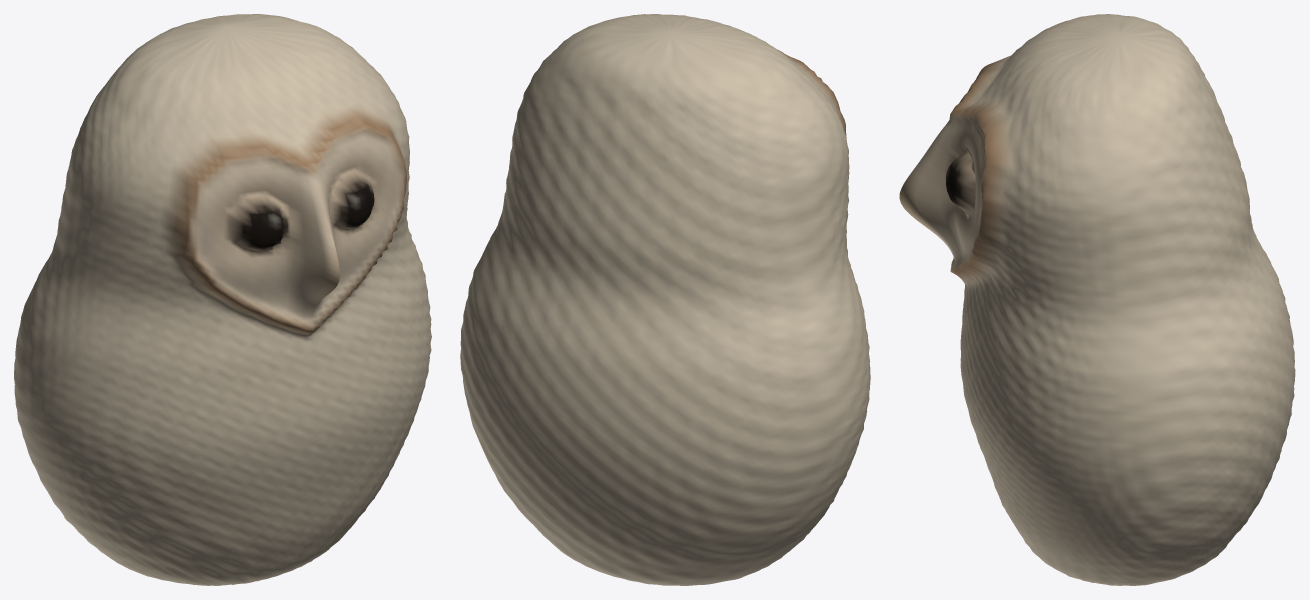
The model's file is sculpt-ART_UNAPPROVED.glb.
3 renders of one model, left to right at view 1: azimuth 30°, elevation 25°; view 2: azimuth 150°, elevation 25°; view 3: azimuth 270°, elevation 25°, orthographic. The views are drawn at different scales.
Bounding box in the file's own units: 1.39 × 1.88 × 1.29.
